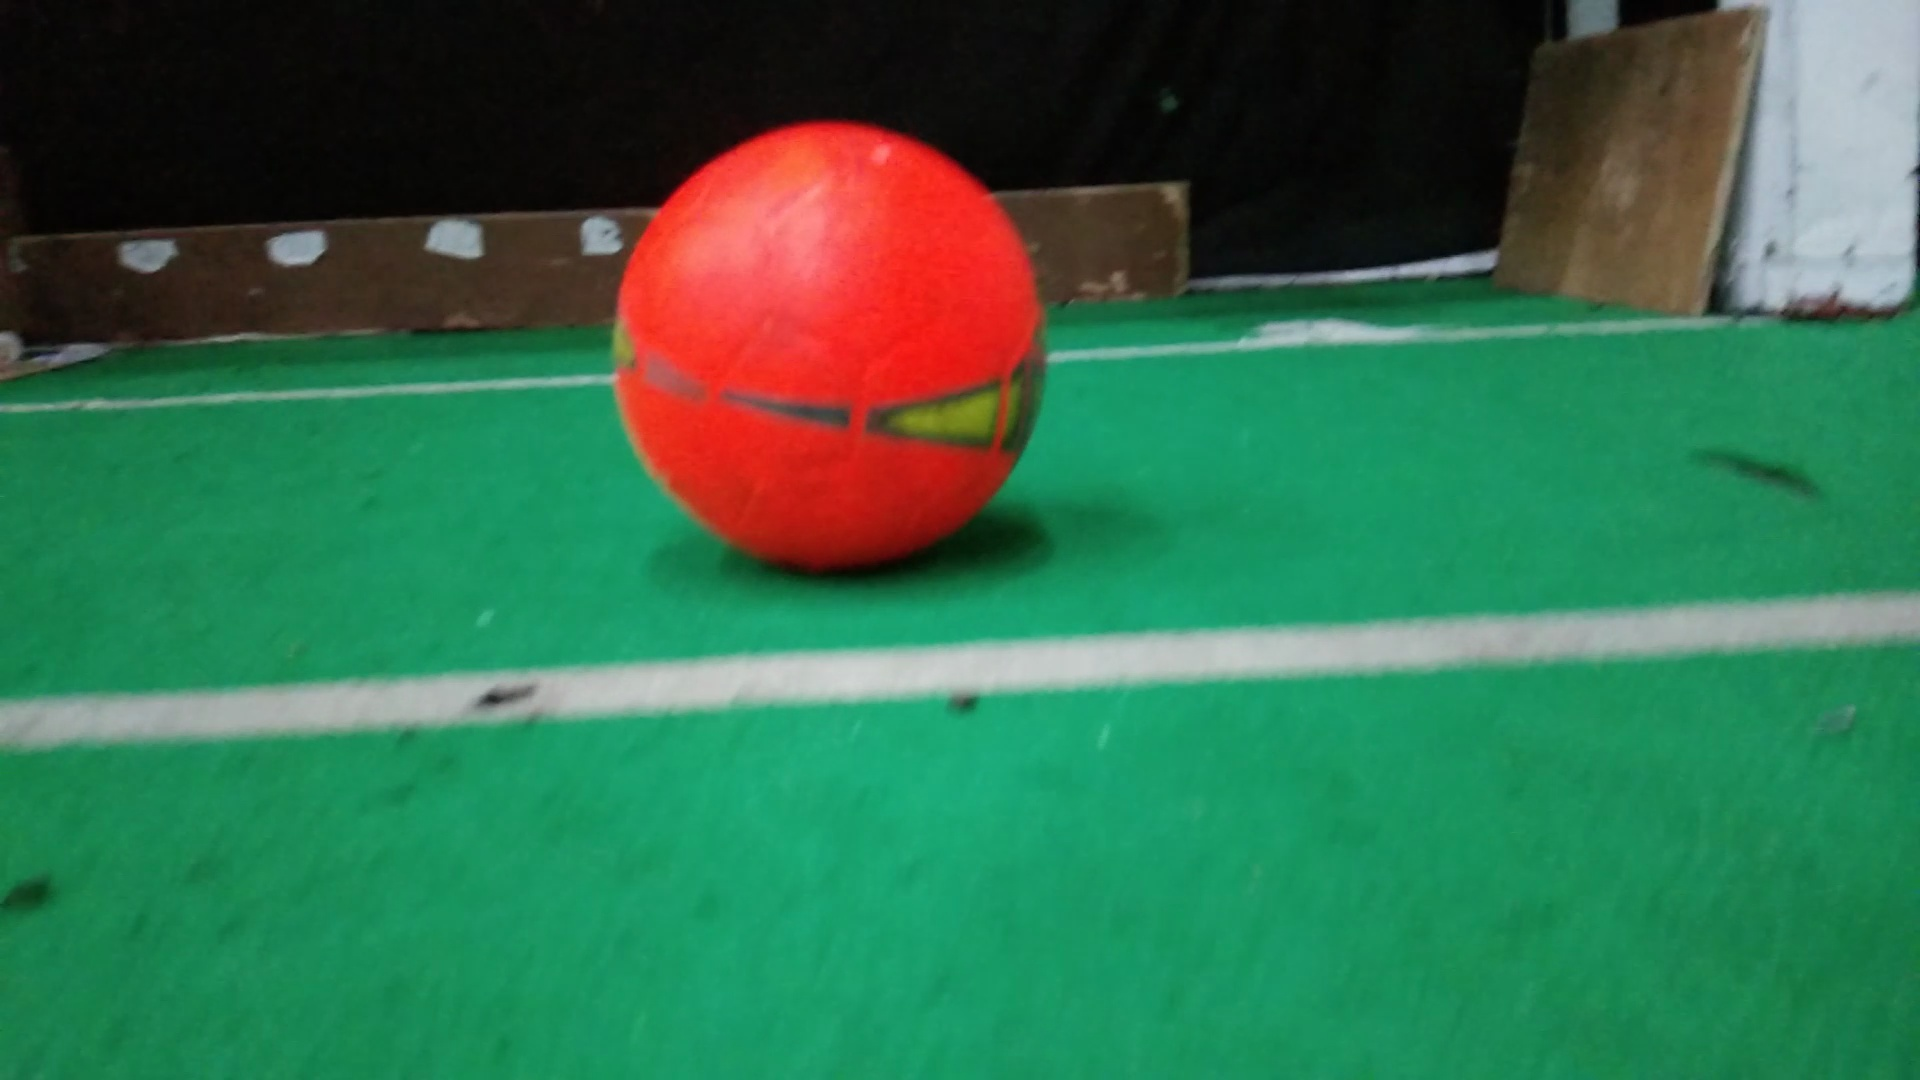bola: (607, 115, 1059, 591)
